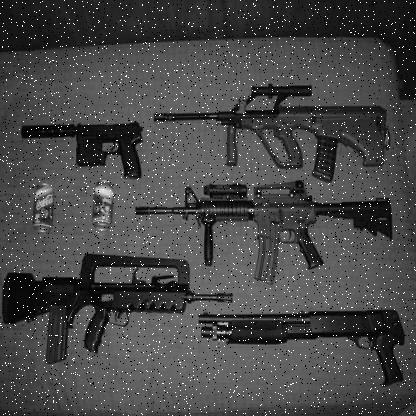rifle: (0, 254, 248, 370), (132, 178, 405, 278), (145, 70, 395, 179), (201, 297, 406, 400), (14, 107, 160, 183)
